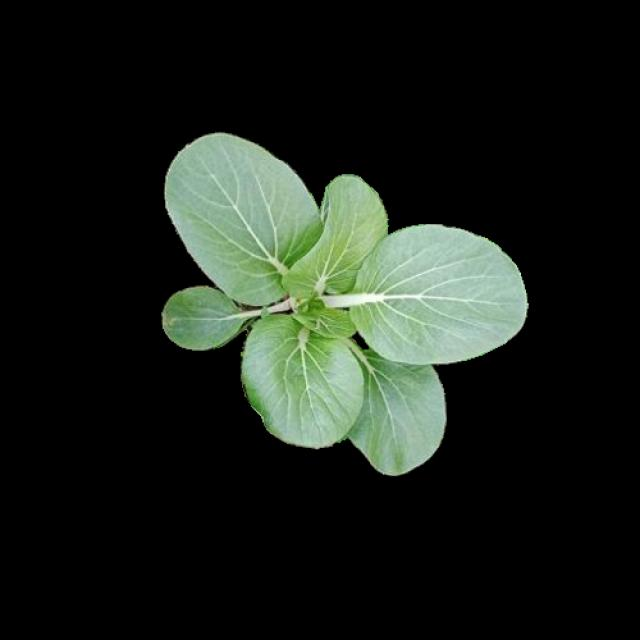healthy: (163, 130, 526, 473)
not-mature: (160, 128, 524, 471)
